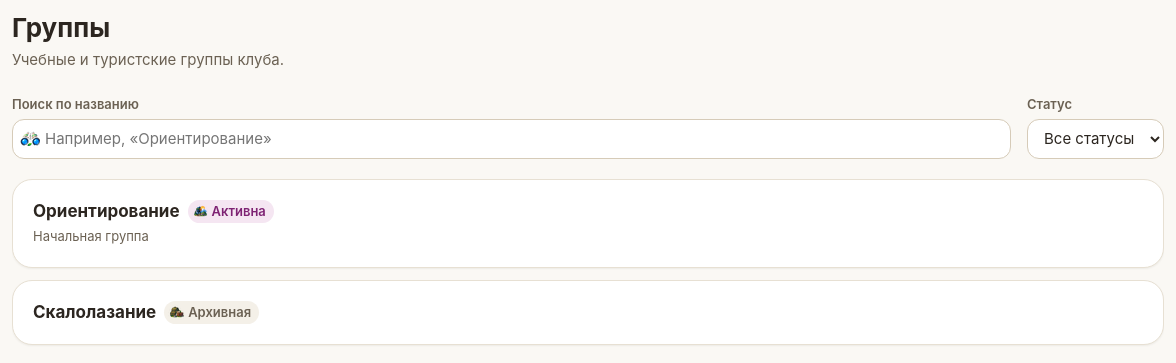
Test case: GroupsPage › renders a readable group list with status badges and filters it by search
Expected: the link "Ориентирование" is shown, [33,201,180,221]
Expected: the link "Скалолазание" is shown, [33,302,156,322]
In the search field labelled "Поиск по названию": (512, 138) [12,118,1011,158], type "Скал"
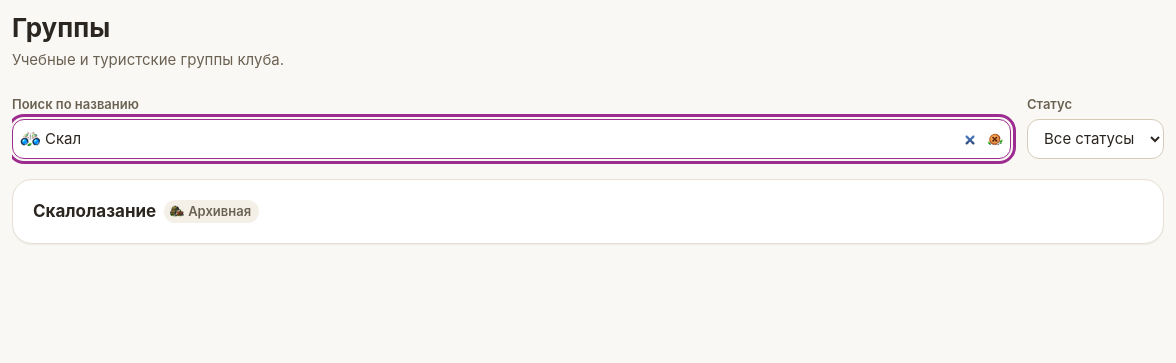
Expected: the link "Скалолазание" is shown, [33,201,156,221]
Expected: the link "Ориентирование" is gone
